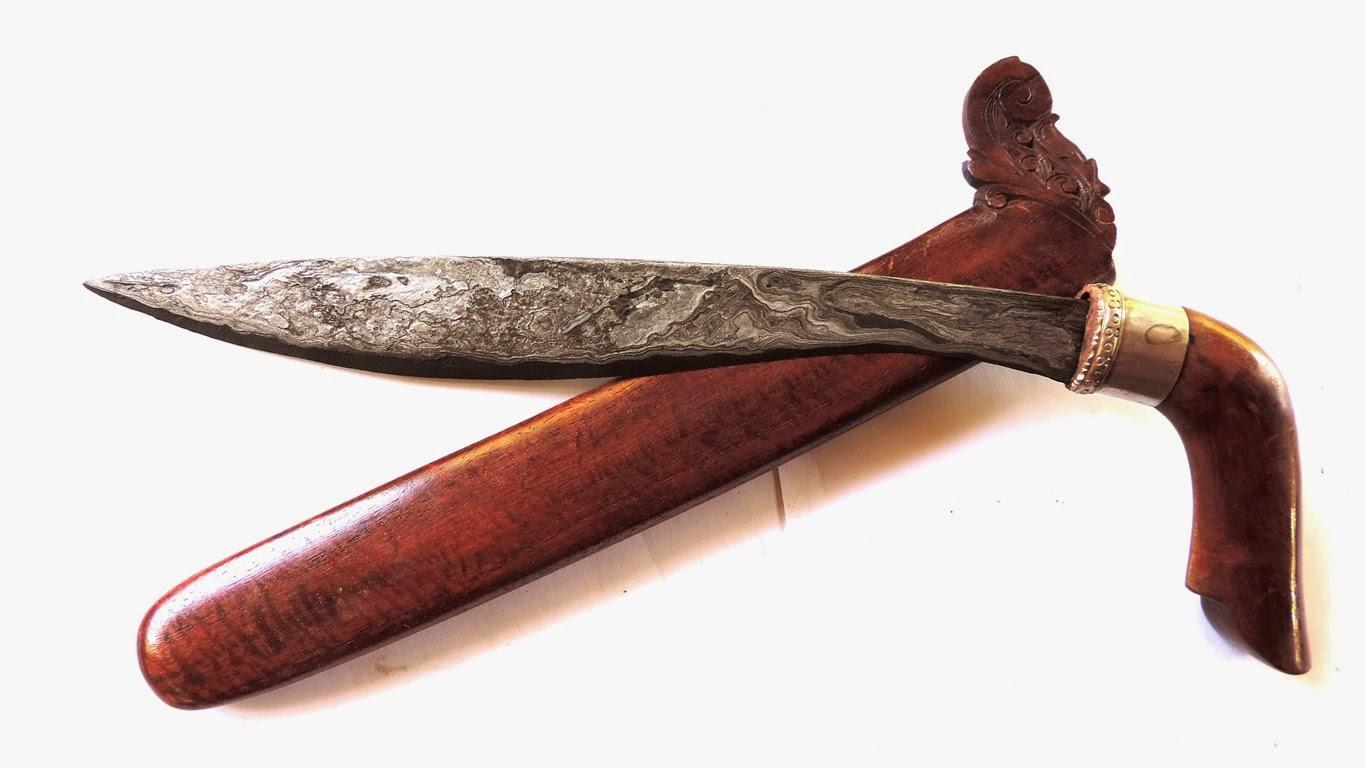facao: (85, 258, 1310, 673)
